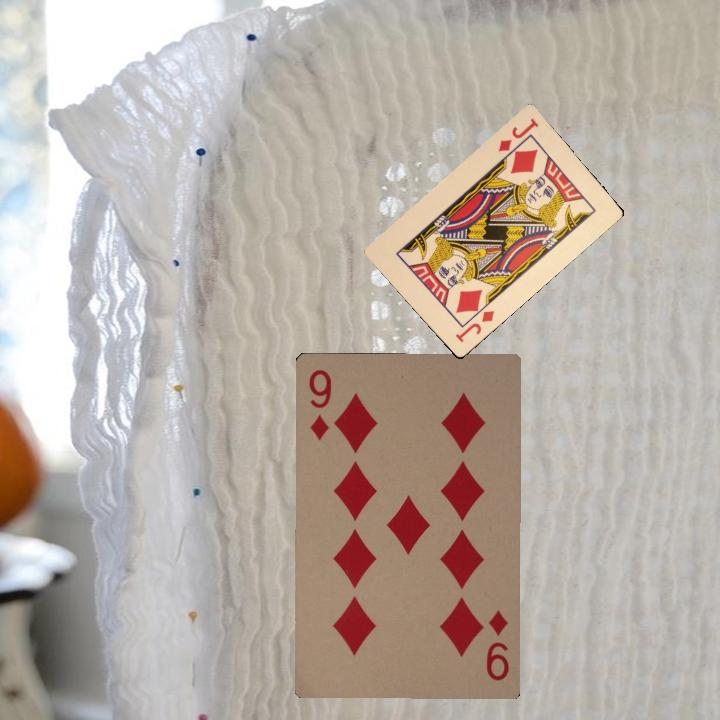9d: (304, 365, 334, 443), (482, 606, 512, 683)
Jd: (494, 114, 541, 163), (451, 306, 497, 345)
